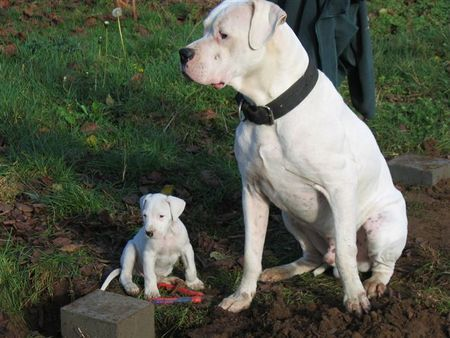dogo_argentino: (178, 0, 407, 316), (100, 193, 203, 300)
